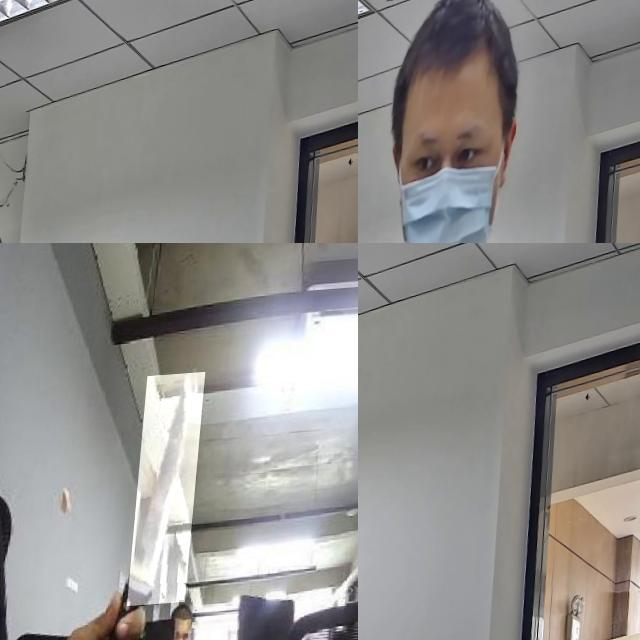-: (136, 378, 210, 611)
gun-knife-thesis - v11 Yolov5 augmented: (358, 429, 391, 606)
